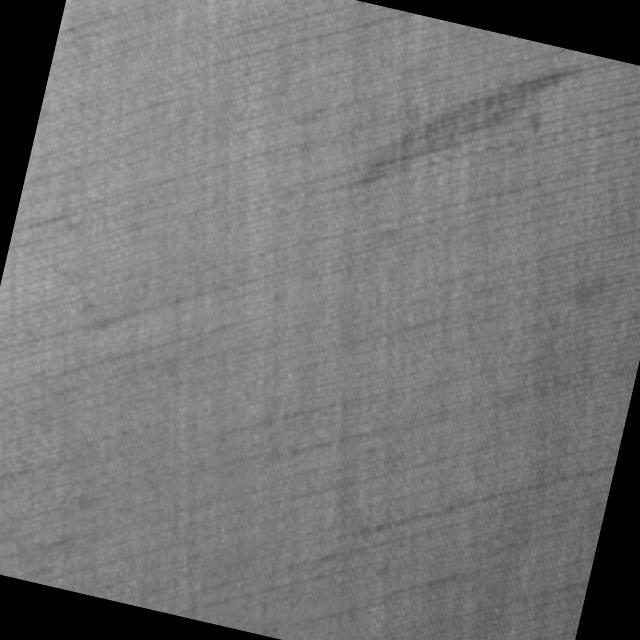oil spot: (346, 19, 580, 236)
